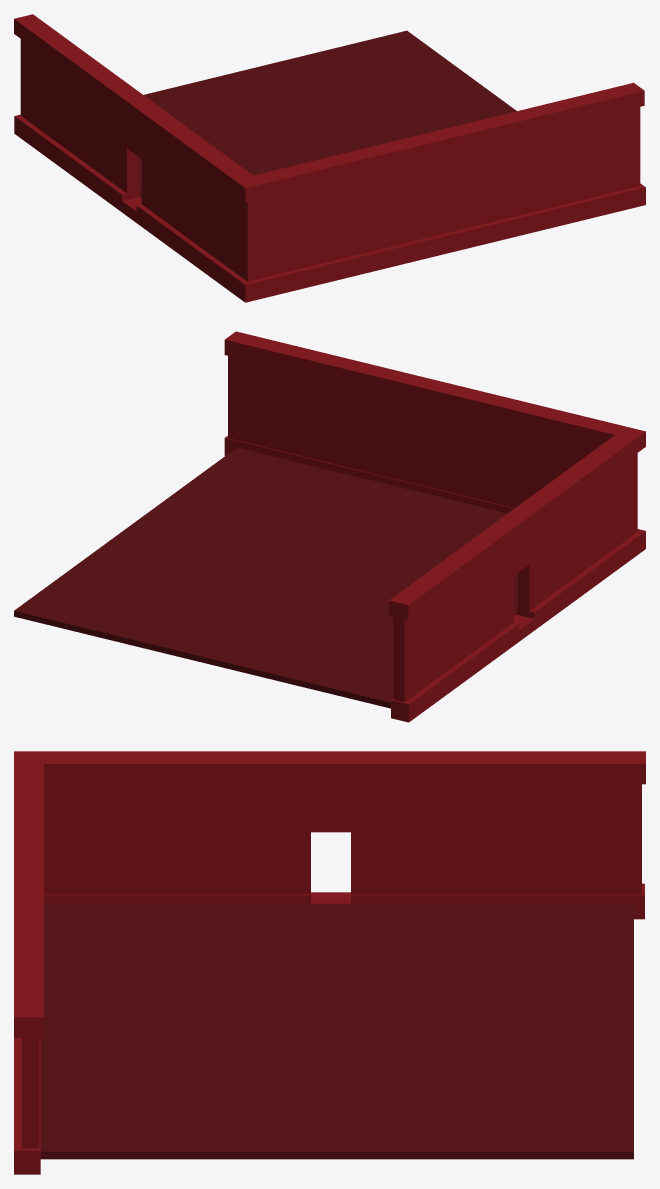
Rendered from bigRoom.fbx.
3 views of the same model, one above another, from view 1: azimuth 30°, elevation 25°; view 2: azimuth 150°, elevation 25°; view 3: azimuth 270°, elevation 25° (orthographic). The views are drawn at different scales.
Parts seen in each view (by area): view 1: Cube, Cube.001; view 2: Cube, Cube.001; view 3: Cube.001, Cube.
Part boxes in pixels (box(x1,y1,x2,y2)): Cube: box(14, 14, 645, 302); Cube.001: box(138, 30, 516, 198); Cube: box(224, 331, 645, 722); Cube.001: box(14, 447, 517, 708); Cube.001: box(40, 904, 633, 1159); Cube: box(14, 751, 645, 1174).
Bounding box in the file's own units: 732 × 200 × 732.
